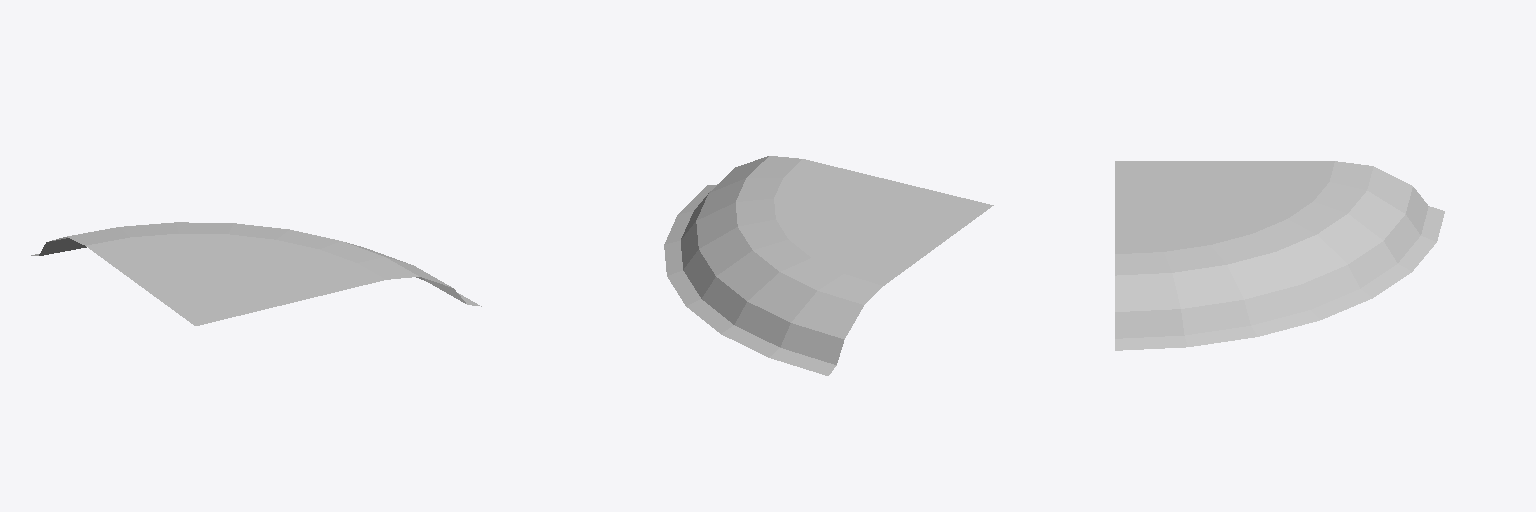
The model's file is Track_Normal_Curve_Inner_3x3.obj.
The picture shows the model from 3 angles: view 1: azimuth 30°, elevation 25°; view 2: azimuth 150°, elevation 25°; view 3: azimuth 270°, elevation 25°; orthographic projection.
Parts seen in each view (by area): view 1: object1; view 2: object1; view 3: object1.
Boxes of the visible parts, x1=… form: object1: x1=31, y1=222, x2=481, y2=325; object1: x1=664, y1=156, x2=993, y2=375; object1: x1=1115, y1=161, x2=1444, y2=350.
Bounding box in the file's own units: 3 × 0.5 × 3.